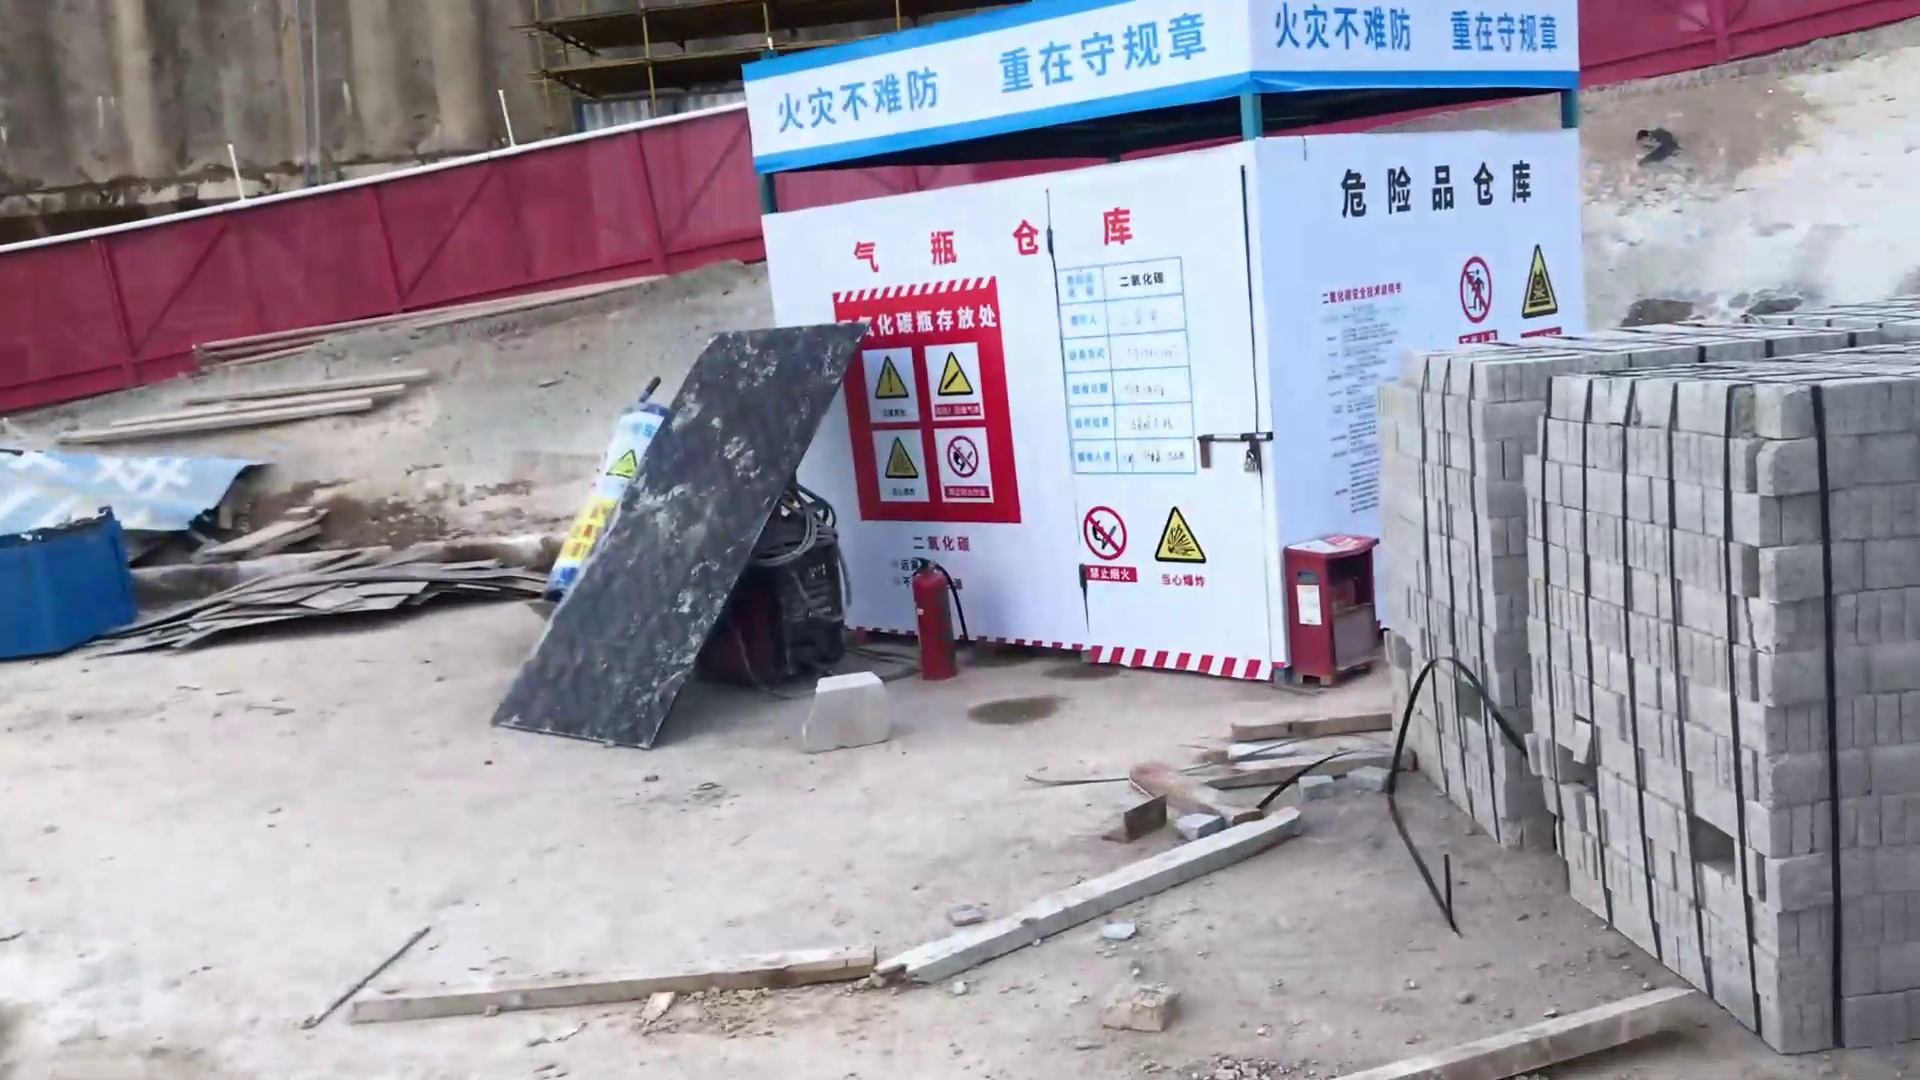board: (550, 305, 818, 782)
brick: (1369, 313, 1917, 1039)
fence: (1, 98, 725, 318)
hopper: (1, 516, 177, 661)
slogan: (754, 22, 1247, 165), (832, 285, 1017, 535), (1211, 1, 1584, 116), (1054, 491, 1244, 629), (1414, 227, 1571, 339)
